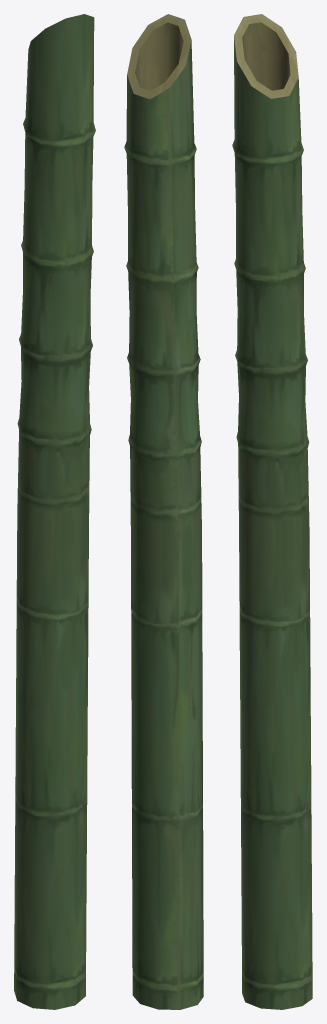
Rendered from SM_EastLands_Bamboo_Tall_02_Stump.fbx.
The picture shows the model from 3 angles, left to right: view 1: azimuth 90°, elevation 25°; view 2: azimuth 210°, elevation 25°; view 3: azimuth 270°, elevation 25°; orthographic projection. The views are drawn at different scales.
Parts seen in each view (by area): view 1: SM_EastLands_Bamboo_Tall_02_Stump_LOD0; view 2: SM_EastLands_Bamboo_Tall_02_Stump_LOD0; view 3: SM_EastLands_Bamboo_Tall_02_Stump_LOD0.
Boxes of the visible parts, box(x1,y1,x2,y2) form: SM_EastLands_Bamboo_Tall_02_Stump_LOD0: box(14, 14, 95, 1009); SM_EastLands_Bamboo_Tall_02_Stump_LOD0: box(124, 14, 203, 1009); SM_EastLands_Bamboo_Tall_02_Stump_LOD0: box(232, 14, 312, 1009).
Bounding box in the file's own units: 33.01 × 469 × 35.23.
